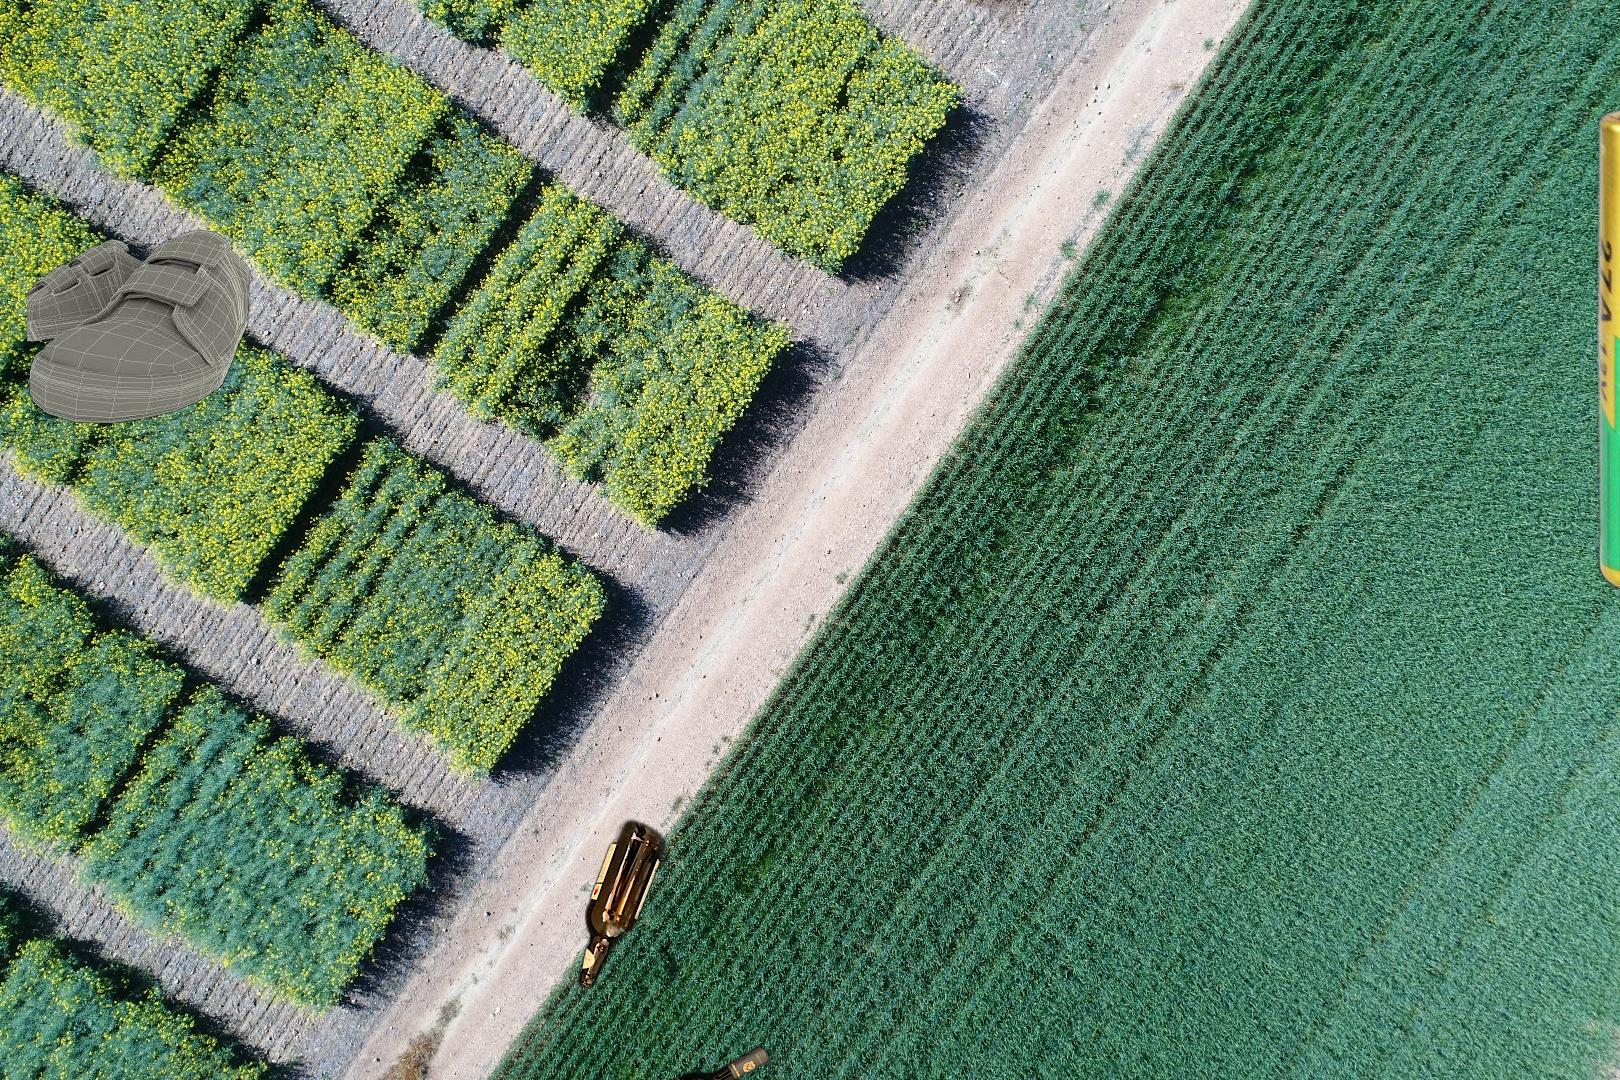battery: (1590, 95, 1620, 604)
glass: (564, 814, 779, 1080)
shoes: (27, 227, 252, 427)
